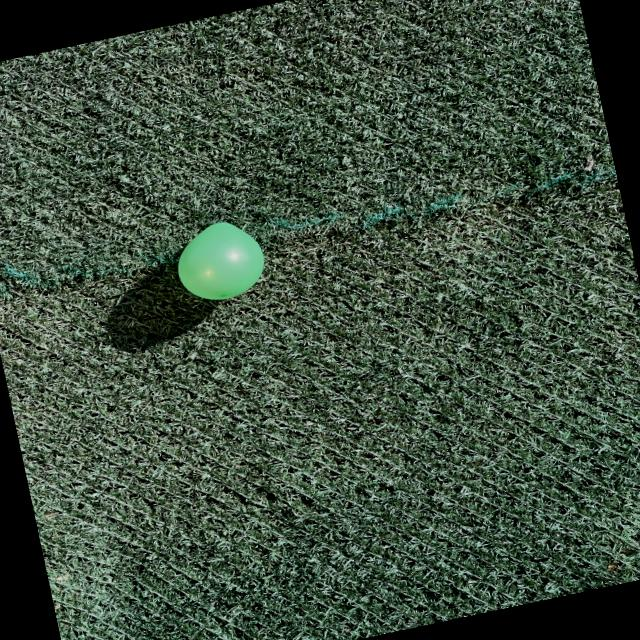balloon: (178, 222, 264, 299)
